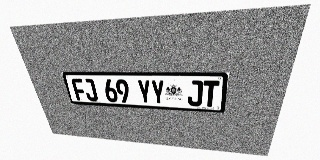6: (102, 79, 119, 102)
9: (115, 79, 131, 103)
F: (71, 78, 87, 101)
J: (187, 80, 203, 106), (82, 79, 98, 101)
T: (202, 80, 220, 107)
Y: (136, 79, 152, 104), (150, 80, 165, 105)
